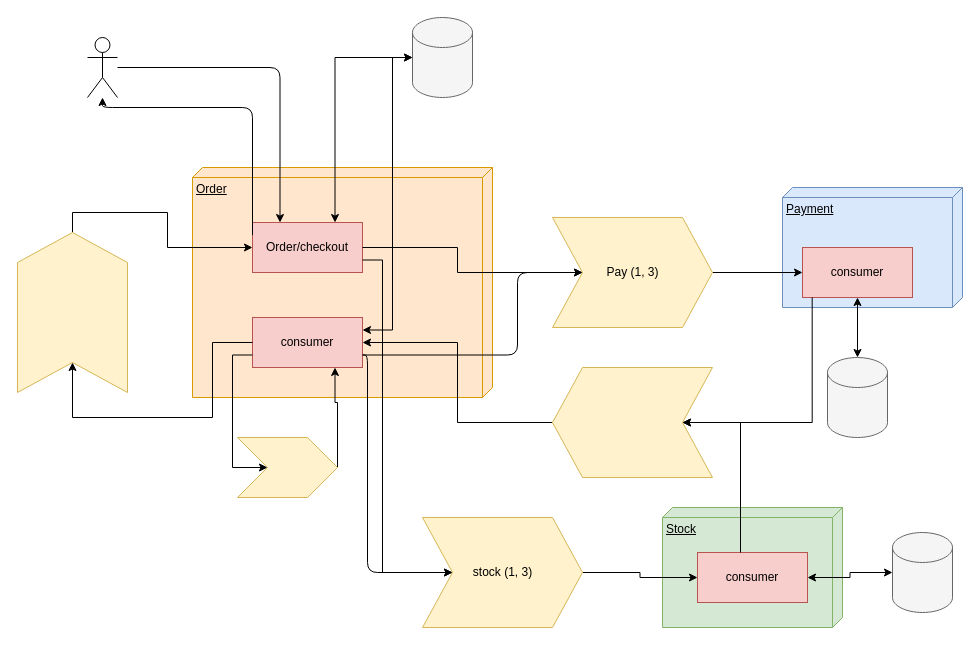
This 980x645 diagram has some shape labels left out. The shapes that lost their labels are listed below. From the top down, each one's box as (x1, y1, x2, y2) in pixels, then its label:
(86, 36, 118, 98): Actor
(16, 232, 128, 392): oc (3)
(552, 366, 712, 478): ops (2)
(236, 436, 338, 498): oops
